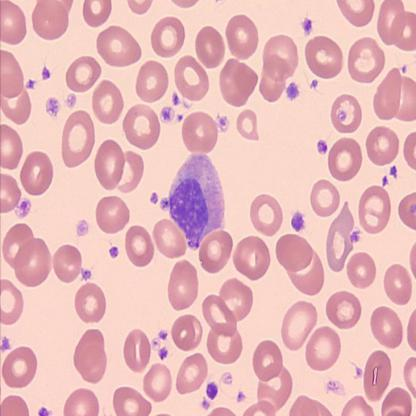Myelocyte: (168, 154, 224, 249)
